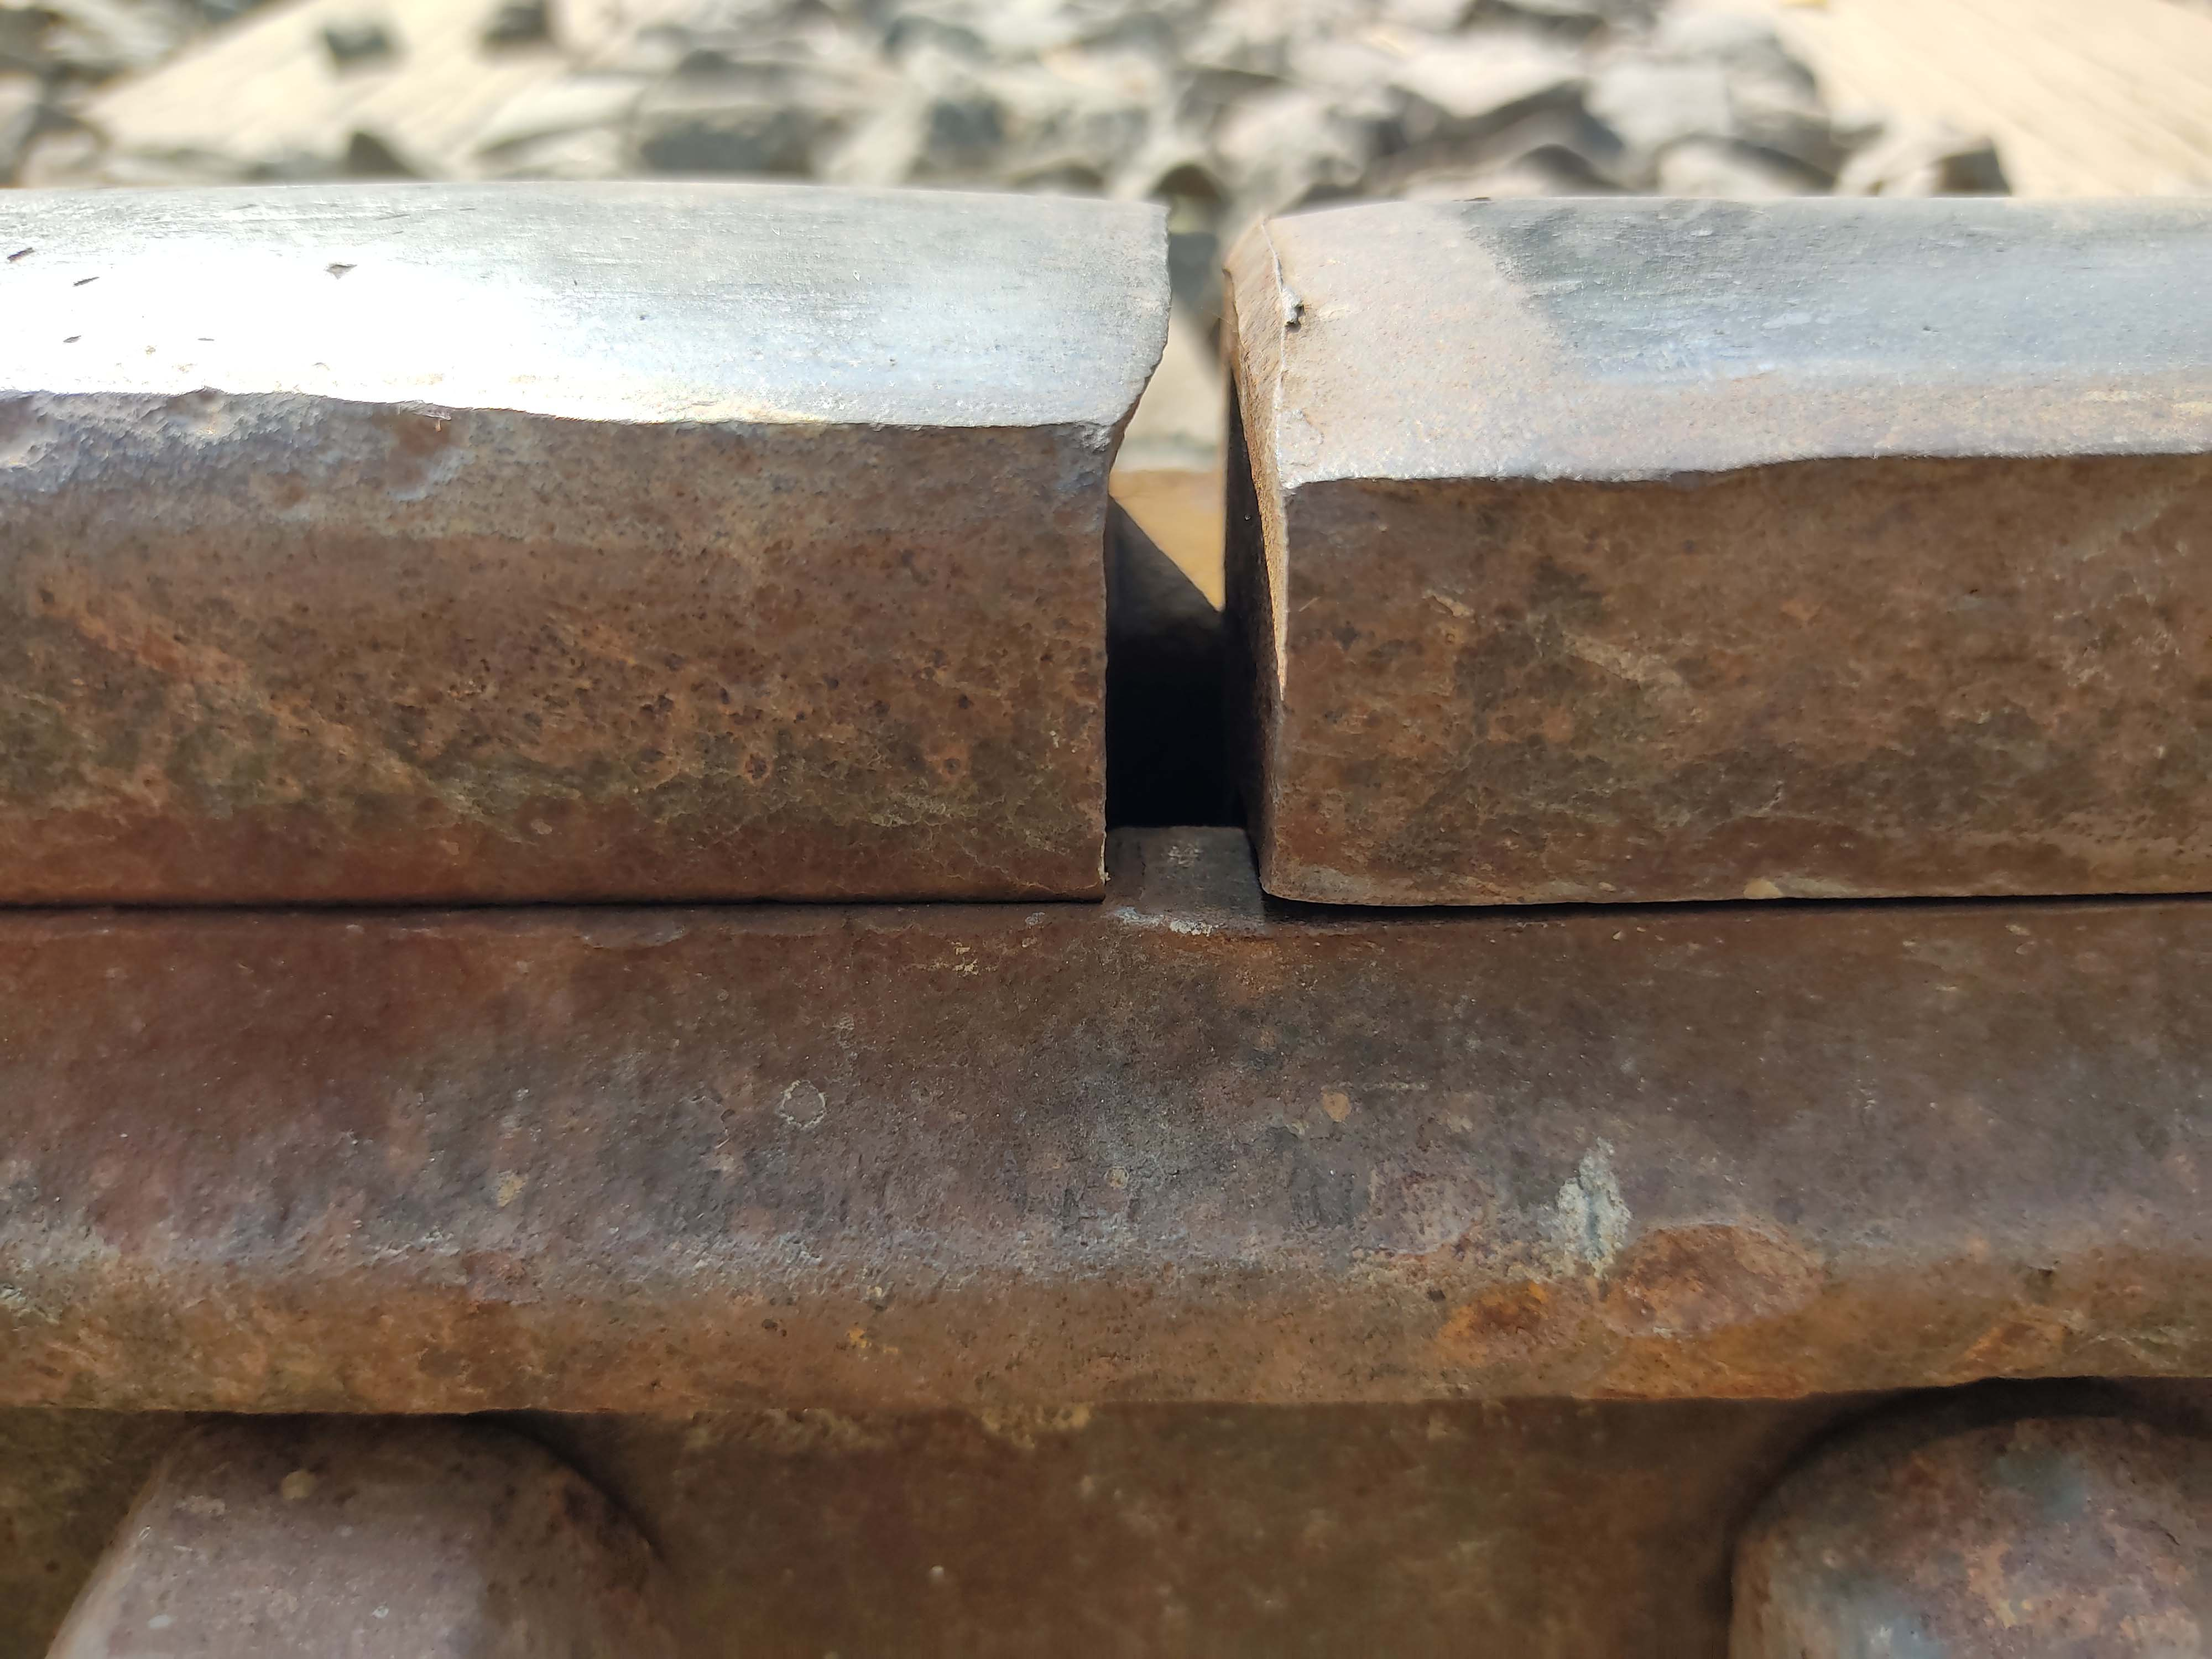error2: (998, 108, 1397, 967)
